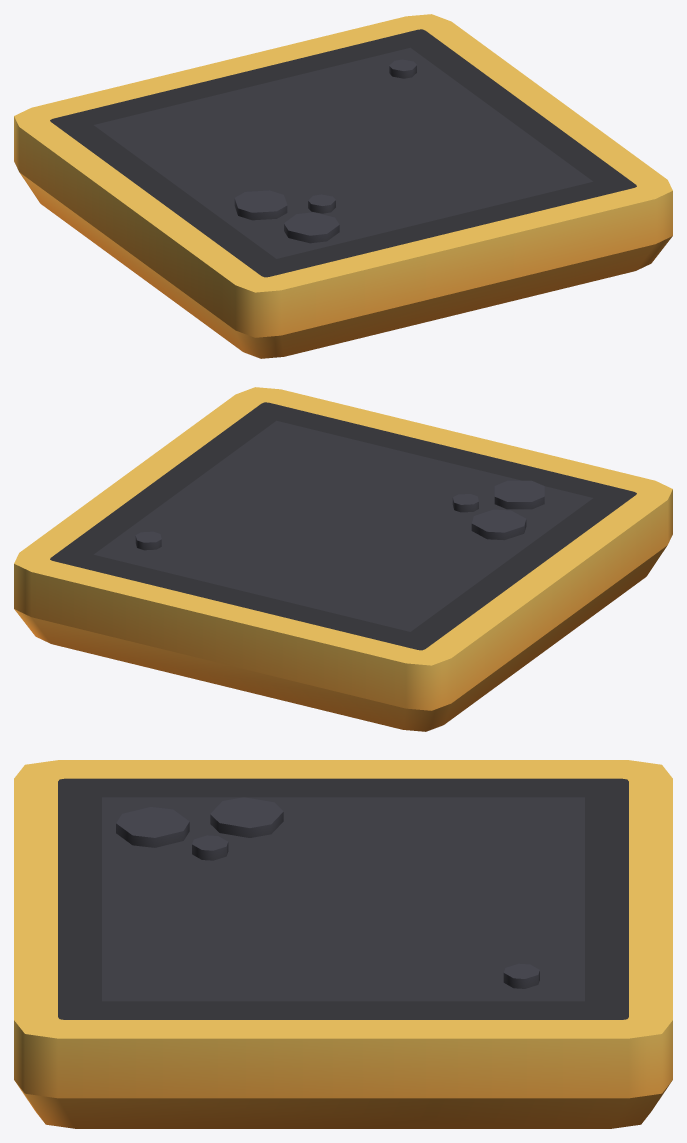
Rendered from platformer_platform_medium.glb.
3 views of the same model, one above another, from view 1: azimuth 30°, elevation 25°; view 2: azimuth 150°, elevation 25°; view 3: azimuth 270°, elevation 25° (orthographic). The views are drawn at different scales.
Parts seen in each view (by area): view 1: platform-medium; view 2: platform-medium; view 3: platform-medium.
Boxes of the visible parts, box(x1,y1,x2,y2) form: platform-medium: box(14, 14, 672, 358); platform-medium: box(14, 387, 672, 731); platform-medium: box(14, 760, 672, 1128).
Bounding box in the file's own units: 3 × 0.55 × 3.
1 material, 1 textured.
